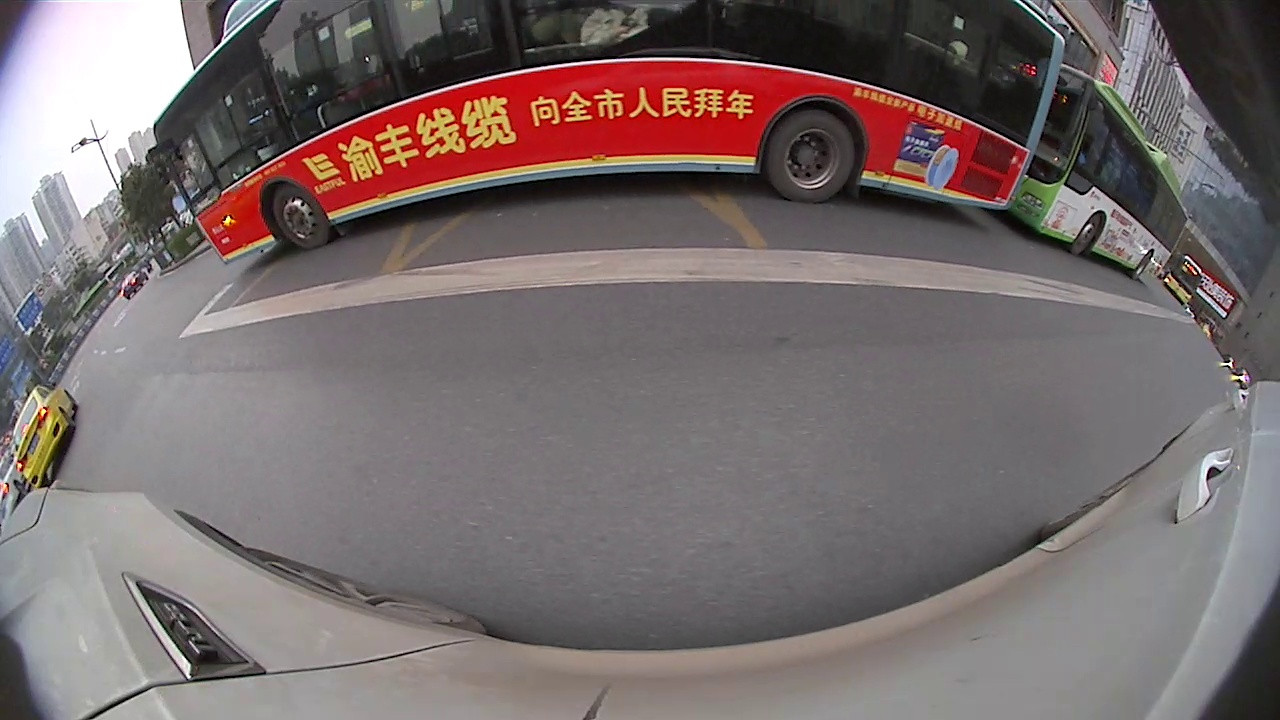bus: (152, 1, 1067, 264), (1007, 68, 1190, 282), (1164, 256, 1202, 306)
car: (10, 384, 80, 484), (0, 456, 31, 517), (119, 271, 148, 300)
front: (266, 187, 337, 249), (1072, 208, 1105, 265)
rear: (771, 109, 858, 203)
